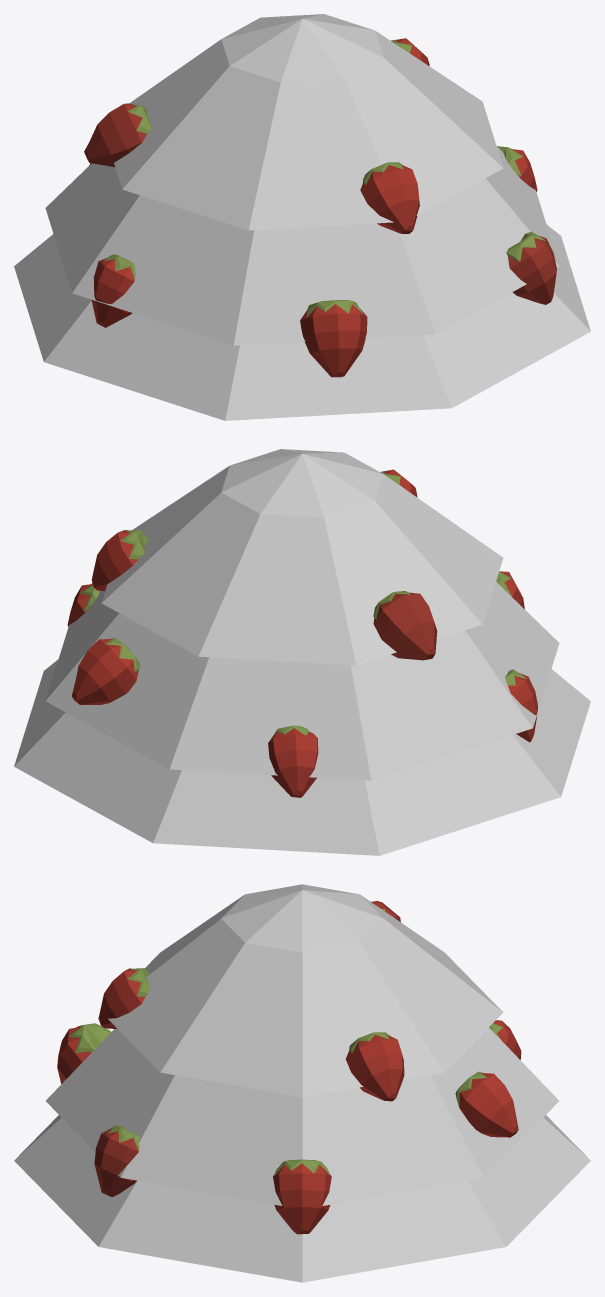
Rendered from SM_Envr_Nature_Farm_Plant_Strawberry.fbx.
The picture shows the model from 3 angles, top to bottom: view 1: azimuth 30°, elevation 25°; view 2: azimuth 150°, elevation 25°; view 3: azimuth 270°, elevation 25°; orthographic projection. The views are drawn at different scales.
Parts seen in each view (by area): view 1: SM_Envr_Nature_Farm_Plant_Strawberry; view 2: SM_Envr_Nature_Farm_Plant_Strawberry; view 3: SM_Envr_Nature_Farm_Plant_Strawberry.
Part boxes in pixels (box(x1,y1,x2,y2)): SM_Envr_Nature_Farm_Plant_Strawberry: box(14, 14, 590, 420); SM_Envr_Nature_Farm_Plant_Strawberry: box(14, 449, 590, 855); SM_Envr_Nature_Farm_Plant_Strawberry: box(14, 884, 590, 1282).
Bounding box in the file's own units: 35.07 × 18.16 × 35.07.
